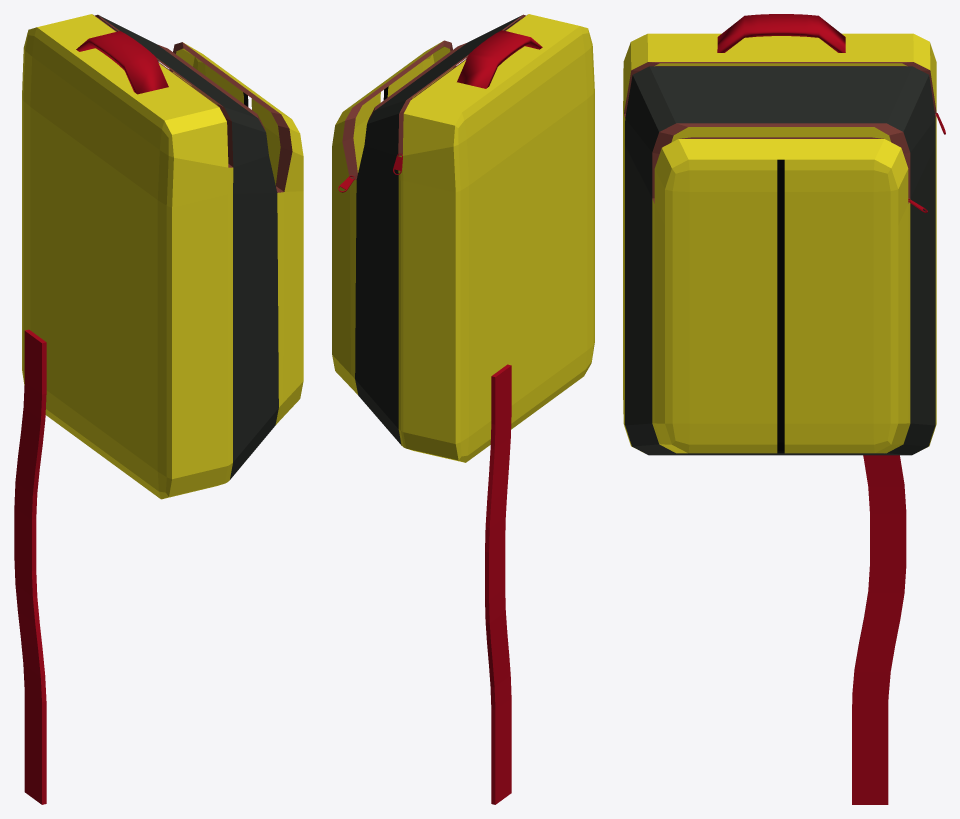
File: backpack.glb
The picture shows the model from 3 angles, left to right: view 1: azimuth 30°, elevation 25°; view 2: azimuth 150°, elevation 25°; view 3: azimuth 270°, elevation 25°; orthographic projection. The views are drawn at different scales.
Visible parts, largest first — view 1: Cube.001, Plane.001, Cube.002; view 2: Cube.001, Plane.001, Cube.002; view 3: Cube.001, Plane.001, Cube.002.
Part boxes in pixels (x1,y1,x2,y2): Cube.001: (22, 14, 303, 499); Plane.001: (14, 329, 46, 804); Cube.002: (76, 31, 168, 94); Cube.001: (332, 14, 594, 462); Plane.001: (485, 364, 511, 804); Cube.002: (457, 30, 542, 88); Cube.001: (623, 33, 936, 455); Plane.001: (852, 455, 906, 804); Cube.002: (717, 14, 845, 52).
Bounding box in the file's own units: 2.7 × 11.34 × 4.13.
